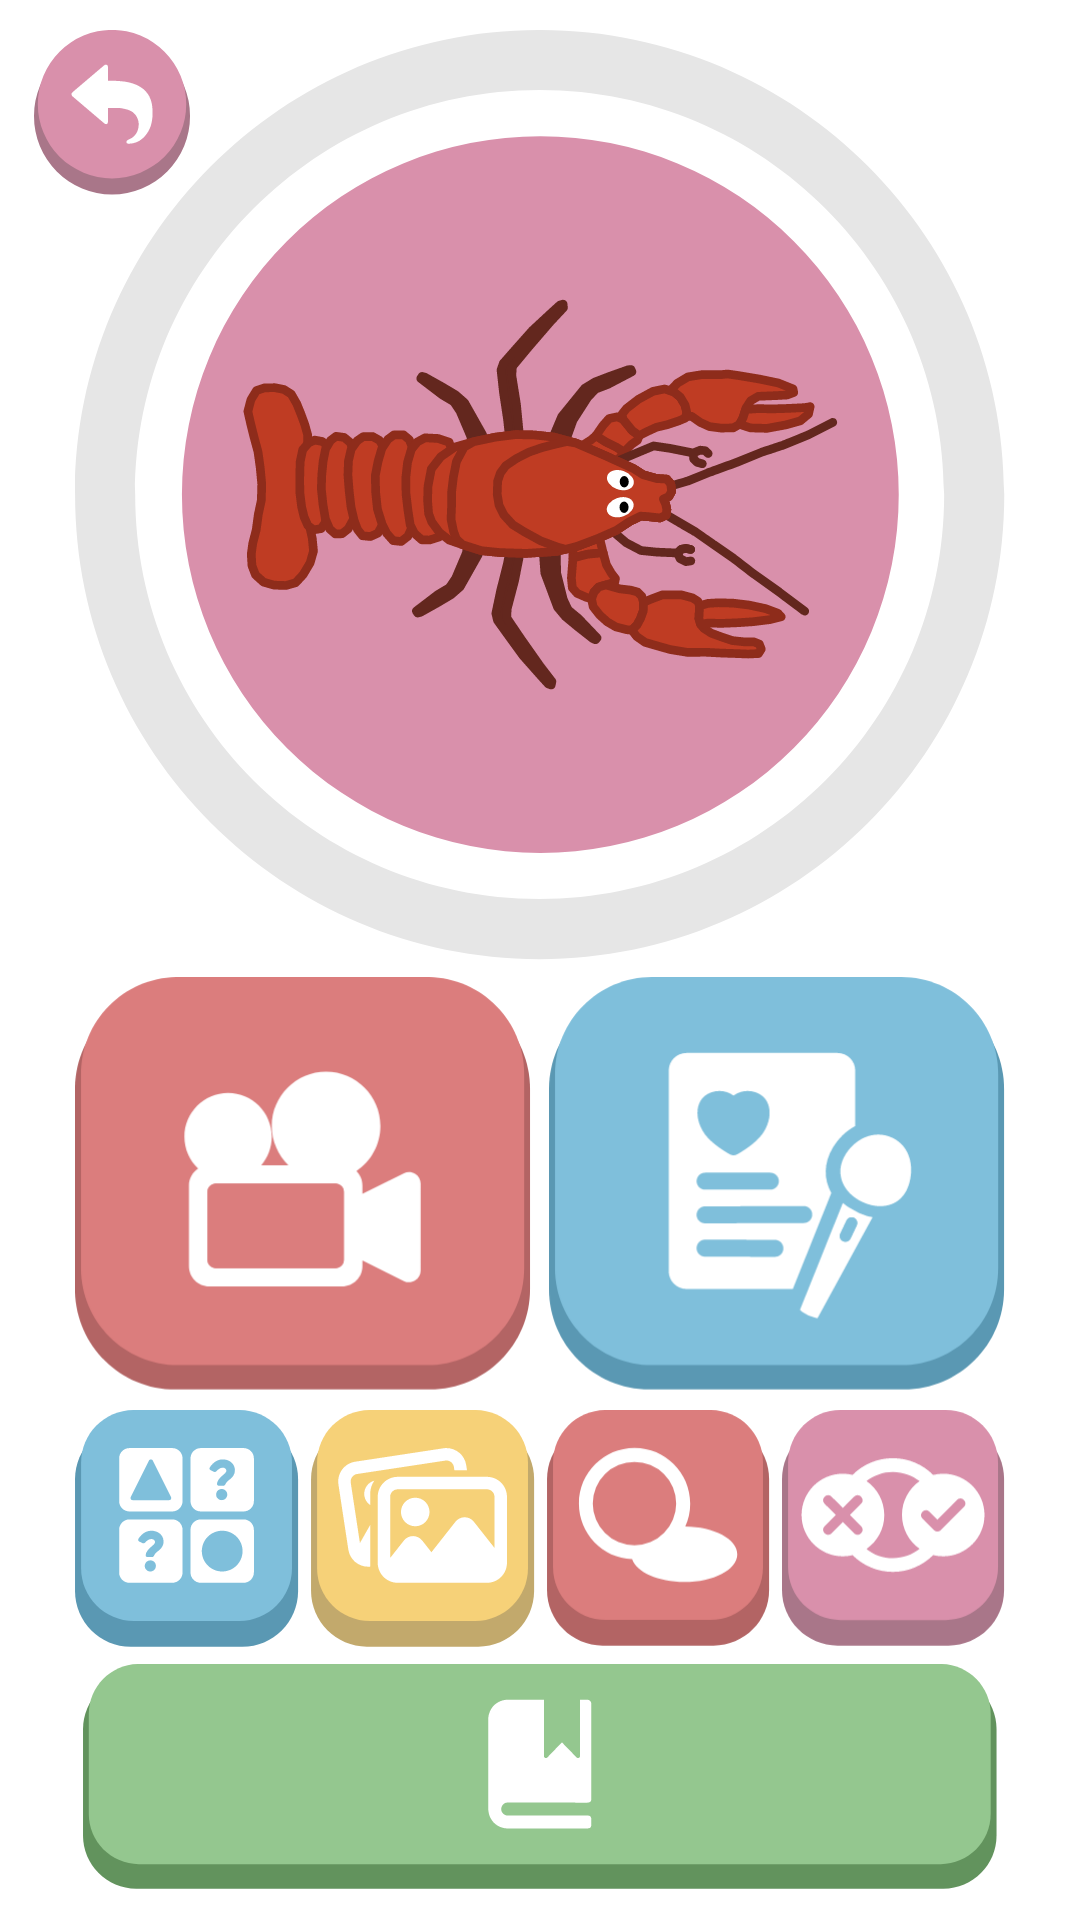

Icon click points for this 1080 × 1920 phone screenshot, format point (x, y):
animal memory: point (186, 1528)
animal quiz: point (893, 1528)
back: point (112, 112)
